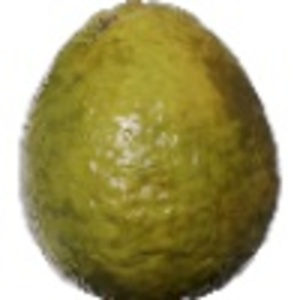goiaba: (12, 2, 282, 295)
